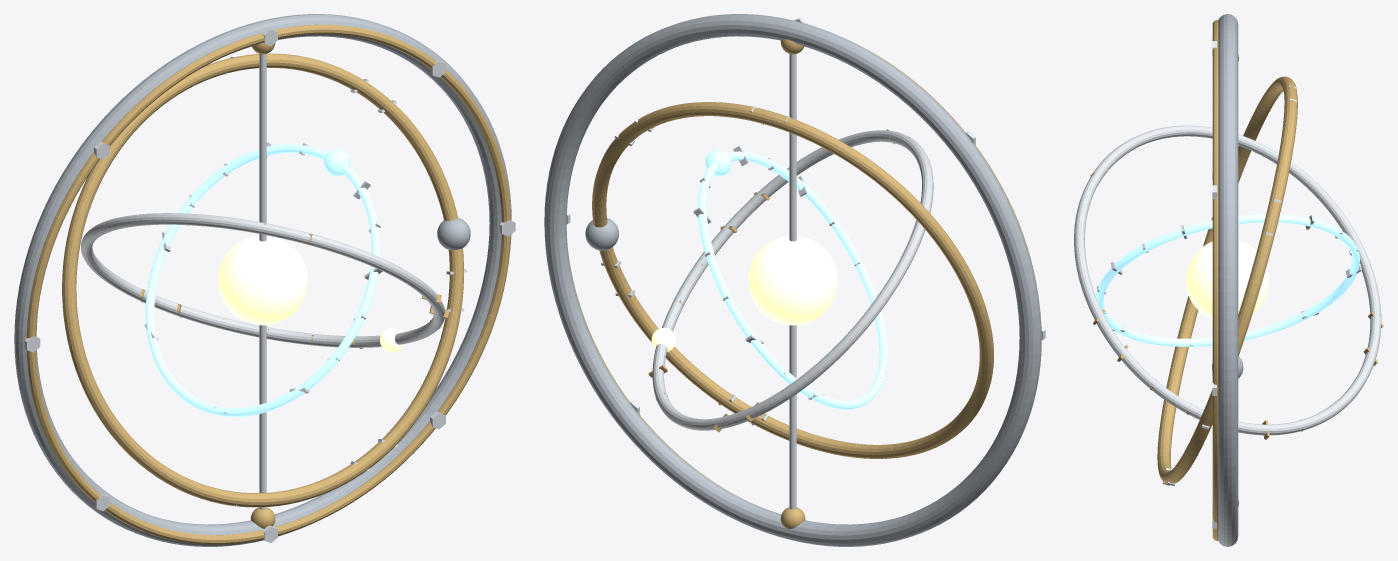
File: galaxy_astrolabe.glb
The picture shows the model from 3 angles, left to right: view 1: azimuth 30°, elevation 25°; view 2: azimuth 150°, elevation 25°; view 3: azimuth 270°, elevation 25°; orthographic projection. The views are drawn at different scales.
Visible parts, largest first — view 1: ASTRO / frame meridian, ASTRO / ring 1 band, ASTRO / frame inner lip, ASTRO / ring 2 band, ASTRO / ring 3 band, ASTRO / sun, ASTRO / polar axis, ASTRO / ring 1 planet; view 2: ASTRO / frame meridian, ASTRO / ring 1 band, ASTRO / ring 2 band, ASTRO / sun, ASTRO / ring 3 band, ASTRO / polar axis, ASTRO / ring 1 planet, ASTRO / frame inner lip; view 3: ASTRO / frame meridian, ASTRO / ring 2 band, ASTRO / ring 1 band, ASTRO / ring 3 band, ASTRO / frame inner lip, ASTRO / sun, ASTRO / ring 3 ticks.
Part boxes in pixels (<box>): ASTRO / frame meridian: <box>14,14,511,546</box>; ASTRO / ring 1 band: <box>62,53,463,507</box>; ASTRO / frame inner lip: <box>26,24,510,544</box>; ASTRO / ring 2 band: <box>81,213,445,347</box>; ASTRO / ring 3 band: <box>145,144,380,416</box>; ASTRO / sun: <box>218,235,307,325</box>; ASTRO / polar axis: <box>259,54,266,509</box>; ASTRO / ring 1 planet: <box>437,217,470,250</box>; ASTRO / frame meridian: <box>544,14,1041,546</box>; ASTRO / ring 1 band: <box>592,102,993,458</box>; ASTRO / ring 2 band: <box>652,130,933,430</box>; ASTRO / sun: <box>748,235,837,325</box>; ASTRO / ring 3 band: <box>698,151,888,409</box>; ASTRO / polar axis: <box>789,54,796,509</box>; ASTRO / ring 1 planet: <box>585,218,618,250</box>; ASTRO / frame inner lip: <box>569,44,1037,497</box>; ASTRO / frame meridian: <box>1218,14,1238,546</box>; ASTRO / ring 2 band: <box>1074,125,1381,435</box>; ASTRO / ring 1 band: <box>1157,76,1297,483</box>; ASTRO / ring 3 band: <box>1096,214,1359,346</box>; ASTRO / frame inner lip: <box>1212,20,1218,540</box>; ASTRO / sun: <box>1185,240,1269,319</box>; ASTRO / ring 3 ticks: <box>1097,214,1361,347</box>.
Size of the model in its own units: 2.54 by 2.54 by 1.48.
